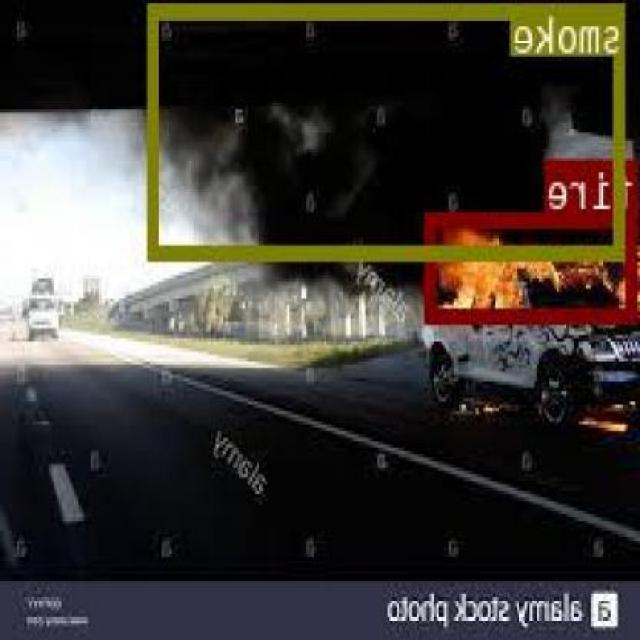fire: (428, 209, 640, 321)
smoke: (151, 0, 627, 258)
